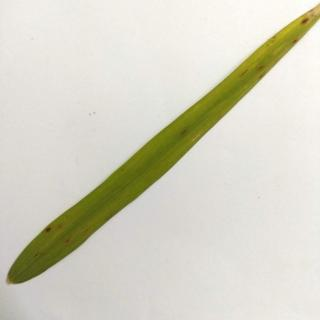bercak-Cokelat: (299, 16, 312, 29), (61, 238, 74, 247), (45, 224, 54, 233), (292, 37, 300, 46)
